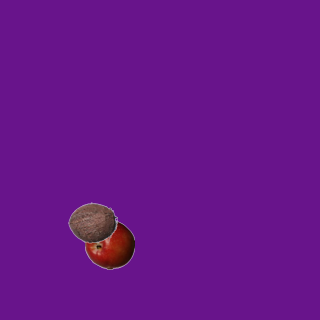Apple Braeburn: (84, 219, 134, 269)
Cocos: (67, 197, 117, 247)
